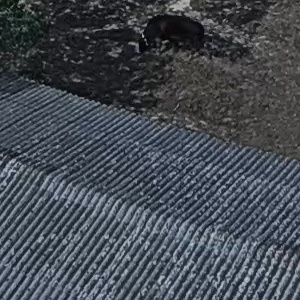cow: (126, 10, 222, 56)
